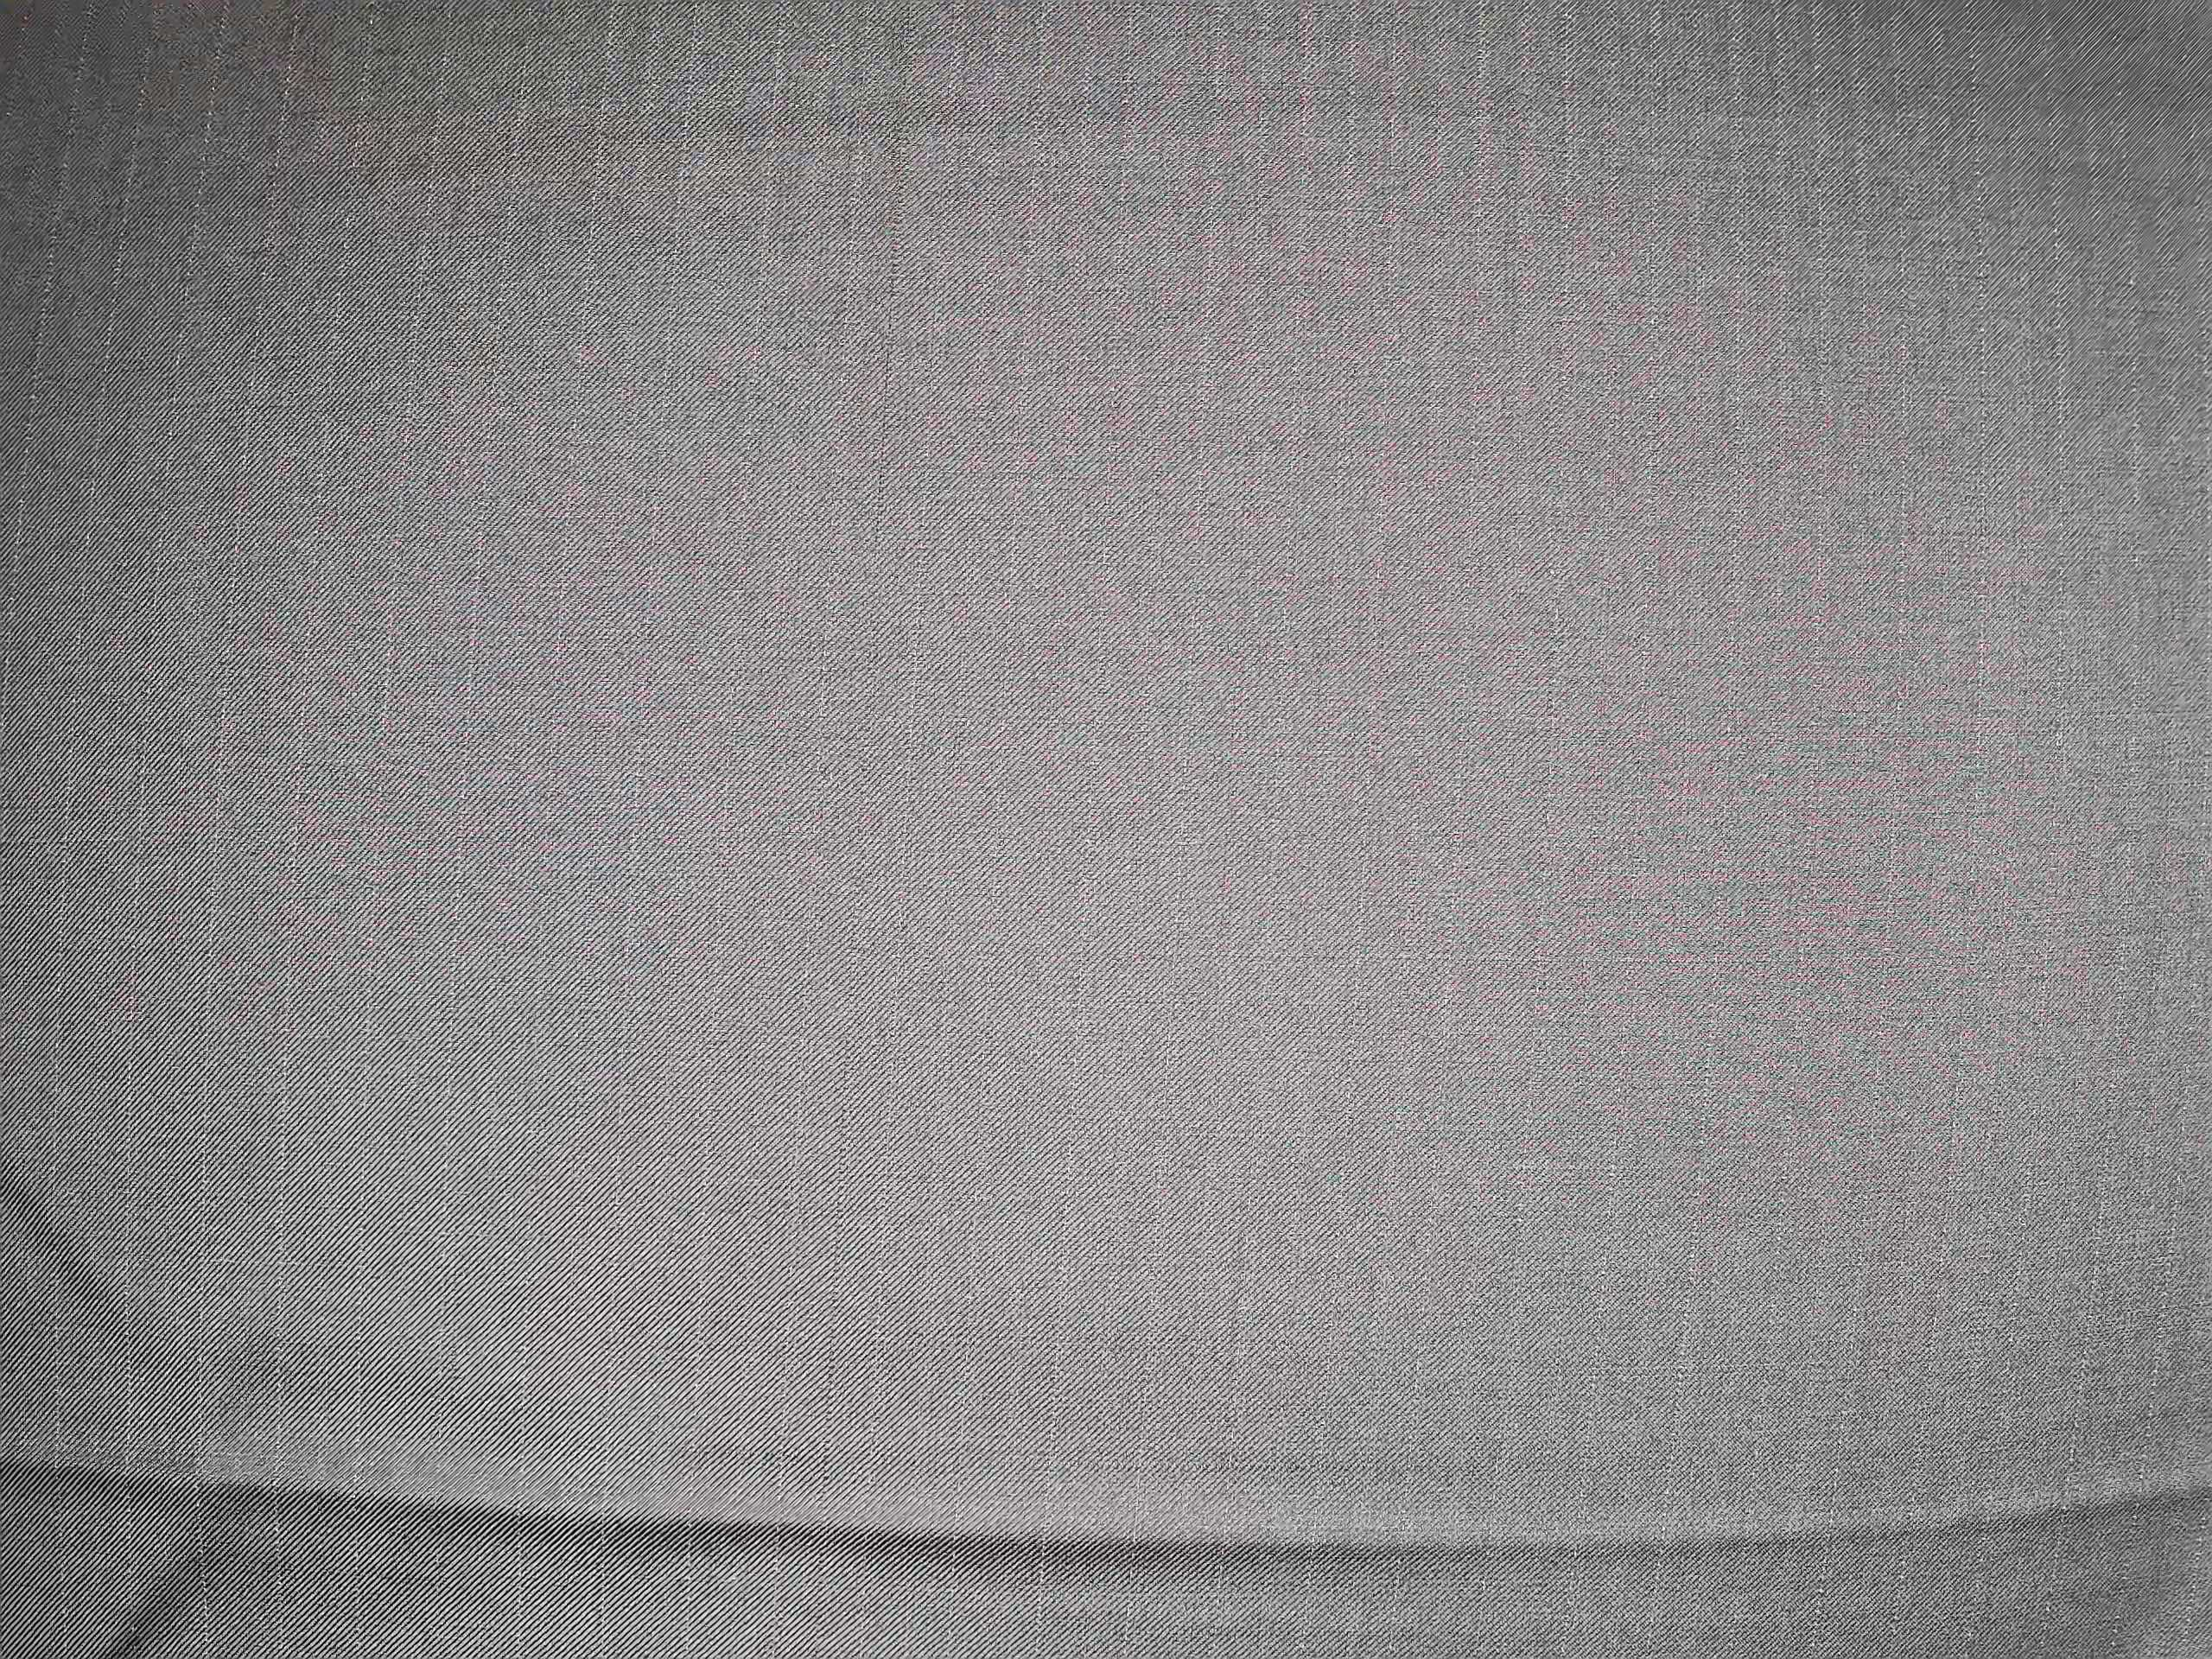hanging-warp: (864, 9, 920, 674)
